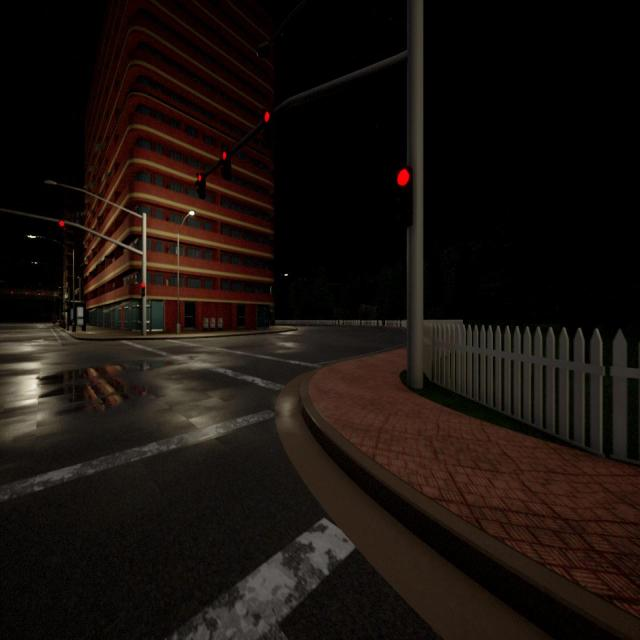traffic_light: (396, 166, 414, 227), (263, 109, 271, 142), (222, 149, 230, 180), (197, 172, 206, 199), (57, 220, 64, 238), (141, 282, 145, 297), (10, 291, 13, 295), (41, 292, 44, 296), (25, 292, 28, 295)
